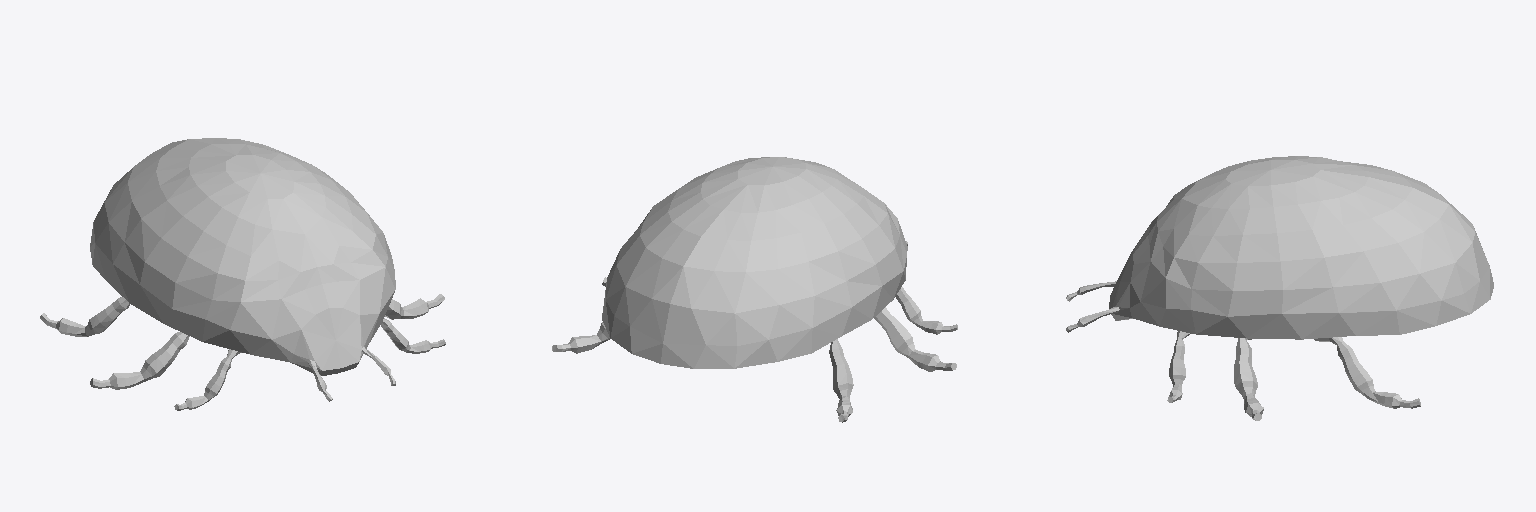
Rendered from Splatterbug.obj.
3 views of the same model, side by side, from view 1: azimuth 30°, elevation 25°; view 2: azimuth 150°, elevation 25°; view 3: azimuth 270°, elevation 25° (orthographic).
Parts seen in each view (by area): view 1: Splatterbug; view 2: Splatterbug; view 3: Splatterbug.
Part boxes in pixels (x1,y1,x2,y2): Splatterbug: (40,138,445,410); Splatterbug: (552,157,957,422); Splatterbug: (1066,156,1493,420).
Size of the model in its own units: 12.68 by 5.9 by 13.34.